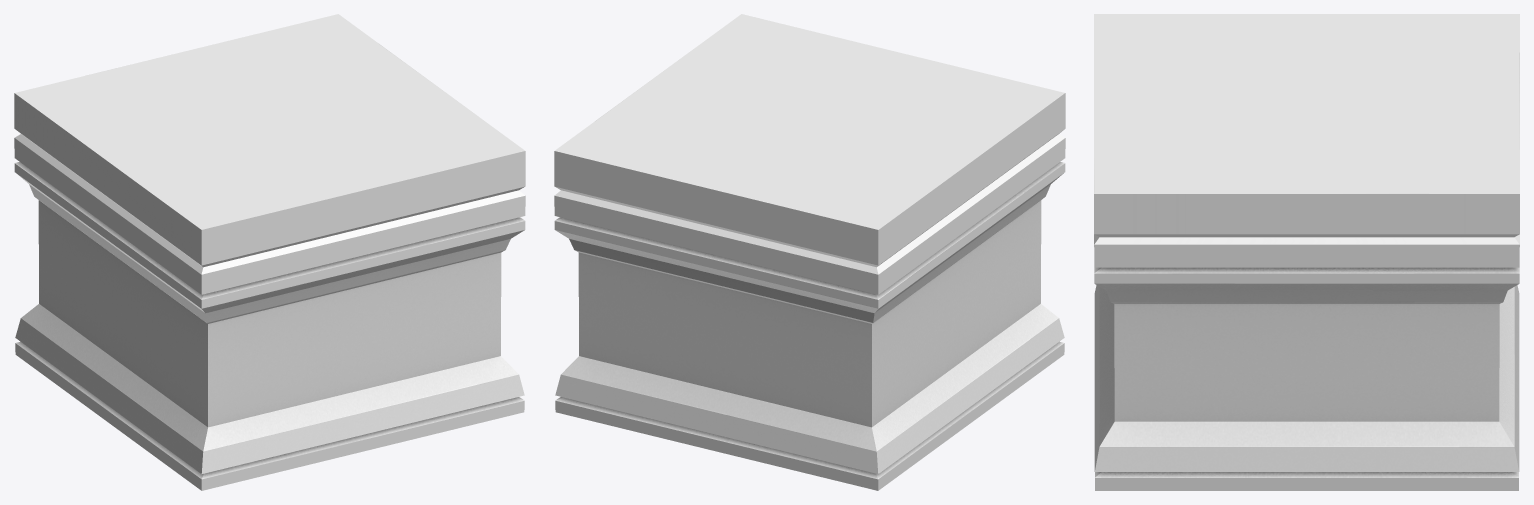
The model's file is pedistal.glb.
3 views of the same model, side by side, from view 1: azimuth 30°, elevation 25°; view 2: azimuth 150°, elevation 25°; view 3: azimuth 270°, elevation 25° (orthographic). The views are drawn at different scales.
Visible parts, largest first — view 1: sockel; view 2: sockel; view 3: sockel.
Part boxes in pixels (<box>): sockel: <box>14,14,525,490</box>; sockel: <box>554,14,1065,490</box>; sockel: <box>1094,14,1519,490</box>.
Bounding box in the file's own units: 0.6718 × 0.518 × 0.6718.
Materials: 1 (1 with a texture image).
